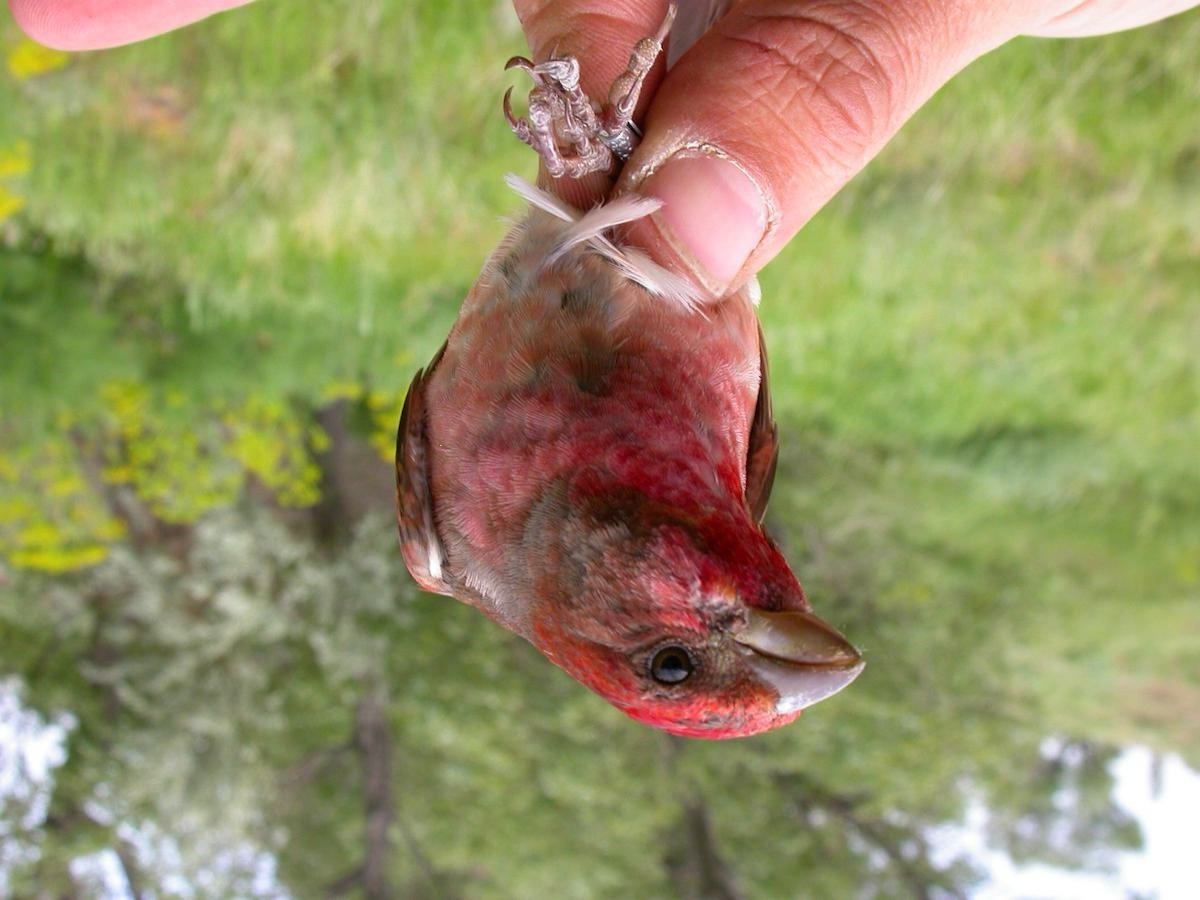rosefinch: (414, 126, 909, 771)
